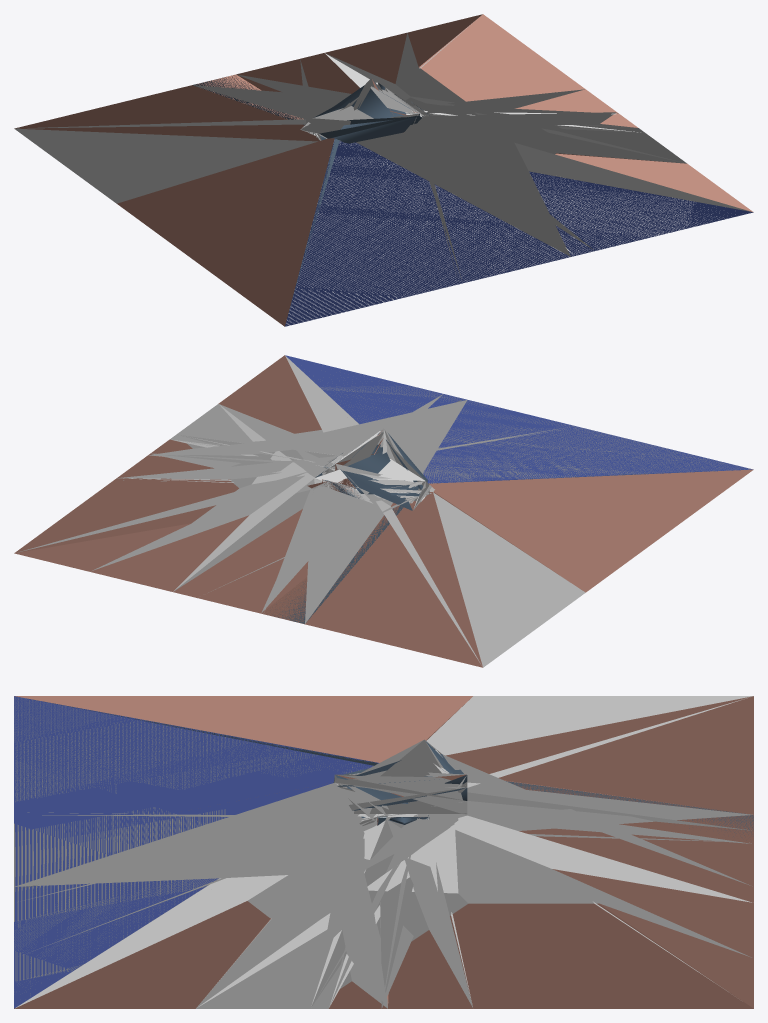
The model's file is casa_10.glb.
3 views of the same model, one above another, from view 1: azimuth 30°, elevation 25°; view 2: azimuth 150°, elevation 25°; view 3: azimuth 270°, elevation 25° (orthographic). The views are drawn at different scales.
Parts seen in each view (by area): view 1: wood_brown, glass_door, plaster_white, metal_grey, roof_01, metal_blue, wood_balls_brown, parapet; view 2: wood_brown, plaster_white, glass_door, roof_01, metal_grey, wood_balls_brown, metal_blue, parapet; view 3: wood_brown, plaster_white, glass_door, metal_grey, roof_01, wood_balls_brown, metal_blue, parapet.
Boxes of the visible parts, bbox=[...] form: wood_brown: bbox=[14, 14, 752, 326]; glass_door: bbox=[285, 138, 753, 326]; plaster_white: bbox=[17, 53, 751, 278]; metal_grey: bbox=[286, 92, 738, 325]; roof_01: bbox=[14, 128, 317, 203]; metal_blue: bbox=[193, 75, 429, 309]; wood_balls_brown: bbox=[395, 33, 639, 249]; parapet: bbox=[312, 86, 423, 137]; wood_brown: bbox=[14, 355, 753, 667]; plaster_white: bbox=[18, 355, 569, 666]; glass_door: bbox=[285, 355, 753, 483]; roof_01: bbox=[433, 492, 585, 667]; metal_grey: bbox=[289, 359, 748, 510]; wood_balls_brown: bbox=[91, 394, 442, 571]; metal_blue: bbox=[272, 430, 694, 623]; parapet: bbox=[315, 431, 429, 496]; wood_brown: bbox=[14, 696, 753, 1008]; plaster_white: bbox=[14, 698, 752, 1008]; glass_door: bbox=[14, 696, 378, 1008]; metal_grey: bbox=[14, 697, 466, 997]; roof_01: bbox=[426, 696, 753, 755]; wood_balls_brown: bbox=[24, 817, 751, 1007]; metal_blue: bbox=[30, 699, 753, 840]; parapet: bbox=[334, 775, 467, 815].
Size of the model in its own units: 23.52 by 3.15 by 23.52.
